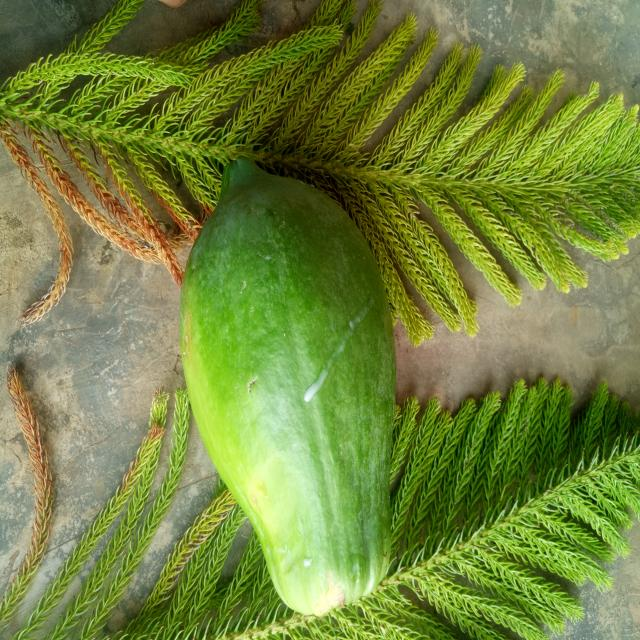Pepaya unrippen: (180, 161, 401, 609)
